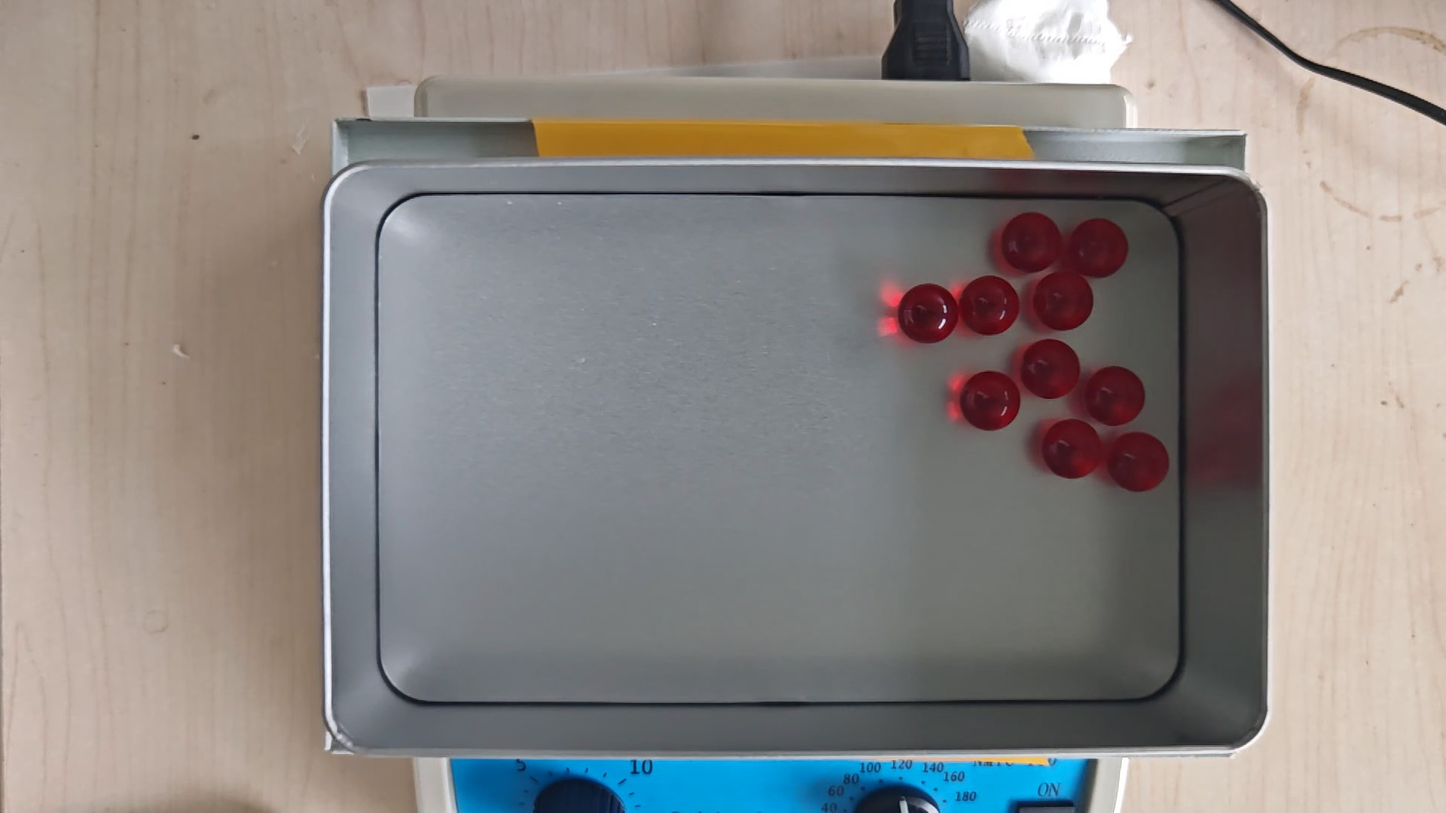ball: (1042, 418, 1104, 480), (1108, 432, 1170, 493), (961, 370, 1021, 433), (1033, 271, 1094, 332), (1001, 212, 1063, 272), (1021, 340, 1082, 400), (899, 282, 957, 345), (1086, 366, 1145, 425), (1069, 218, 1128, 277), (962, 276, 1018, 337)
container: (377, 194, 1182, 703)
